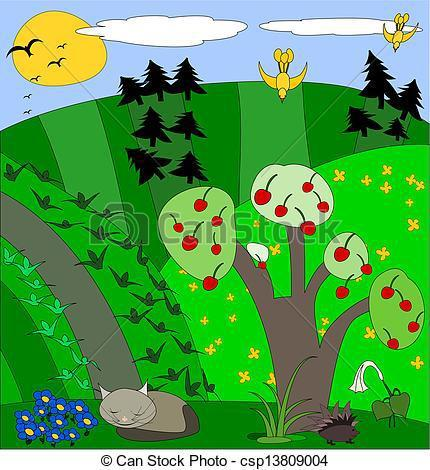bird: (253, 44, 311, 104), (381, 10, 422, 52), (1, 37, 46, 61)
cat: (93, 381, 207, 442)
